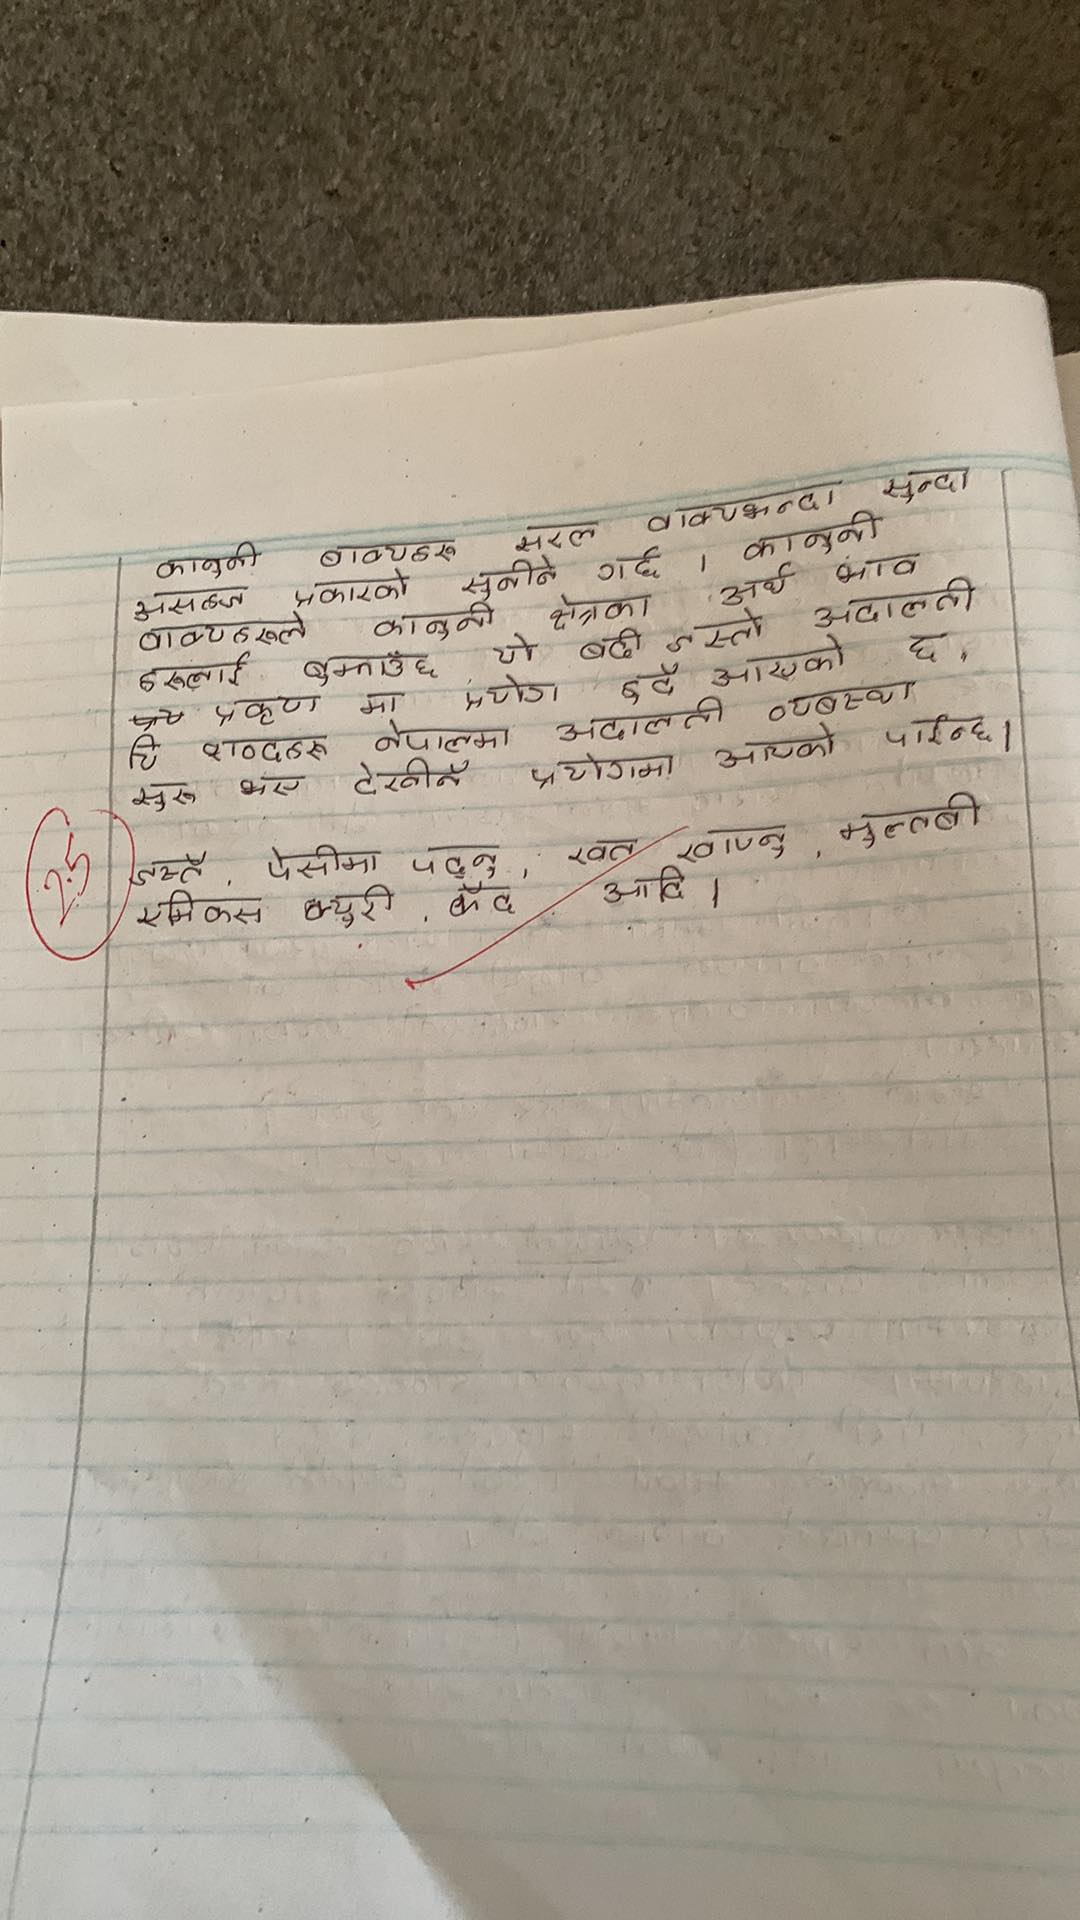text: (644, 480, 837, 531), (551, 695, 727, 748), (811, 578, 976, 632), (833, 789, 982, 848), (764, 673, 920, 723), (737, 512, 880, 562), (131, 886, 266, 935), (527, 752, 684, 794), (133, 615, 309, 651), (708, 725, 839, 774), (707, 644, 847, 688), (297, 645, 444, 686), (297, 880, 400, 934), (316, 537, 465, 574), (368, 603, 498, 644), (454, 554, 567, 600), (146, 538, 266, 582), (665, 608, 767, 657), (257, 843, 382, 882), (208, 688, 322, 732), (344, 758, 471, 796), (375, 723, 516, 757), (135, 654, 253, 694), (674, 828, 796, 866), (199, 731, 334, 765), (884, 712, 996, 752), (128, 585, 248, 622), (459, 669, 562, 711), (545, 595, 659, 632), (600, 862, 690, 909), (716, 560, 799, 609), (880, 465, 973, 508), (440, 880, 517, 931), (407, 840, 504, 880), (291, 572, 410, 603), (574, 622, 650, 669), (508, 518, 604, 554), (127, 849, 208, 889), (125, 777, 200, 818), (828, 551, 924, 582), (591, 549, 667, 585), (615, 665, 684, 703), (227, 771, 307, 804), (564, 835, 642, 868), (491, 628, 541, 669), (124, 735, 171, 777), (902, 632, 951, 673), (353, 684, 400, 717)
